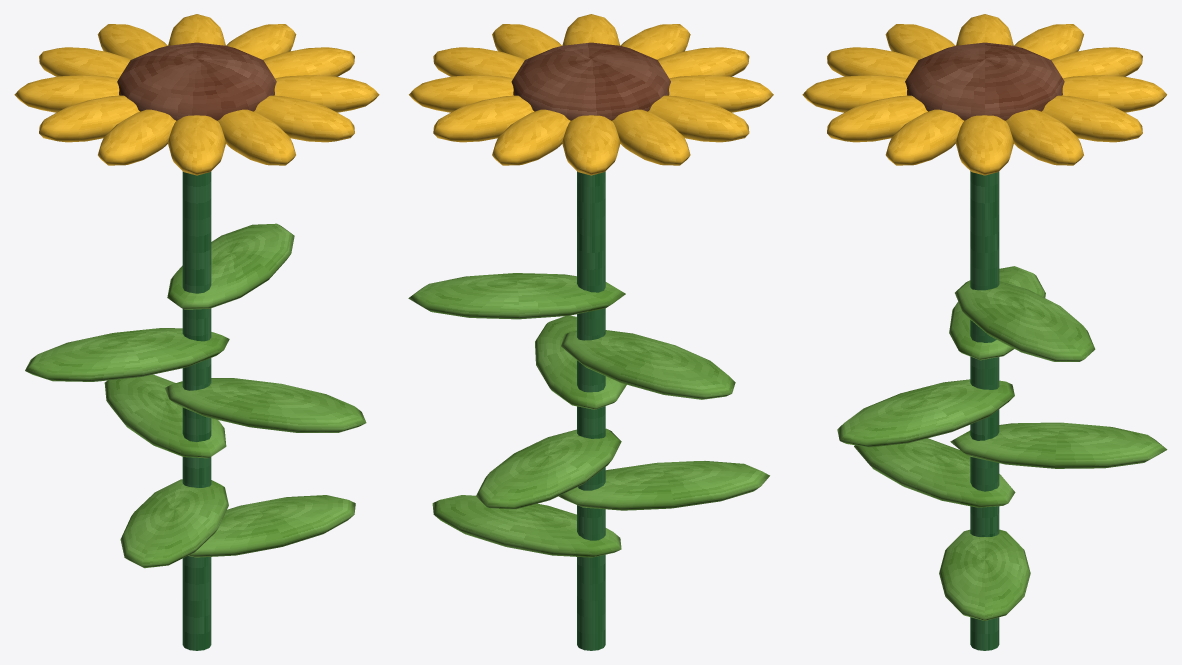
The model's file is sunflower.glb.
The picture shows the model from 3 angles, left to right: view 1: azimuth 30°, elevation 25°; view 2: azimuth 150°, elevation 25°; view 3: azimuth 270°, elevation 25°; orthographic projection.
Visible parts, largest first — view 1: leaf (×6), petal (×12), stem, disc; view 2: leaf (×6), petal (×12), stem, disc; view 3: leaf (×6), petal (×12), disc, stem.
Boxes of the visible parts, box(x1,y1,x2,y2) form: leaf (×6): box(25, 223, 366, 568); petal (×12): box(14, 14, 379, 175); stem: box(182, 171, 211, 650); disc: box(117, 42, 276, 120); leaf (×6): box(408, 273, 769, 557); petal (×12): box(409, 14, 773, 175); stem: box(577, 171, 605, 650); disc: box(511, 42, 670, 120); leaf (×6): box(837, 266, 1167, 620); petal (×12): box(802, 14, 1166, 175); disc: box(905, 42, 1064, 120); stem: box(970, 171, 999, 650).
Bounding box in the file's own units: 0.838 × 1.48 × 0.8365.
4 materials, 4 textured.
